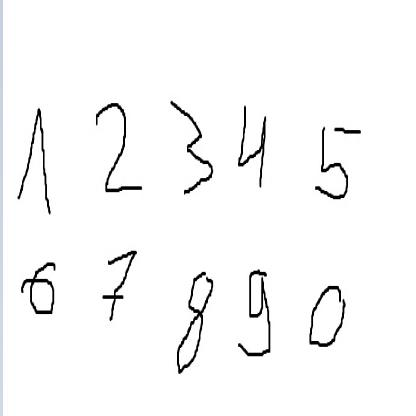-: (83, 89, 152, 218)
